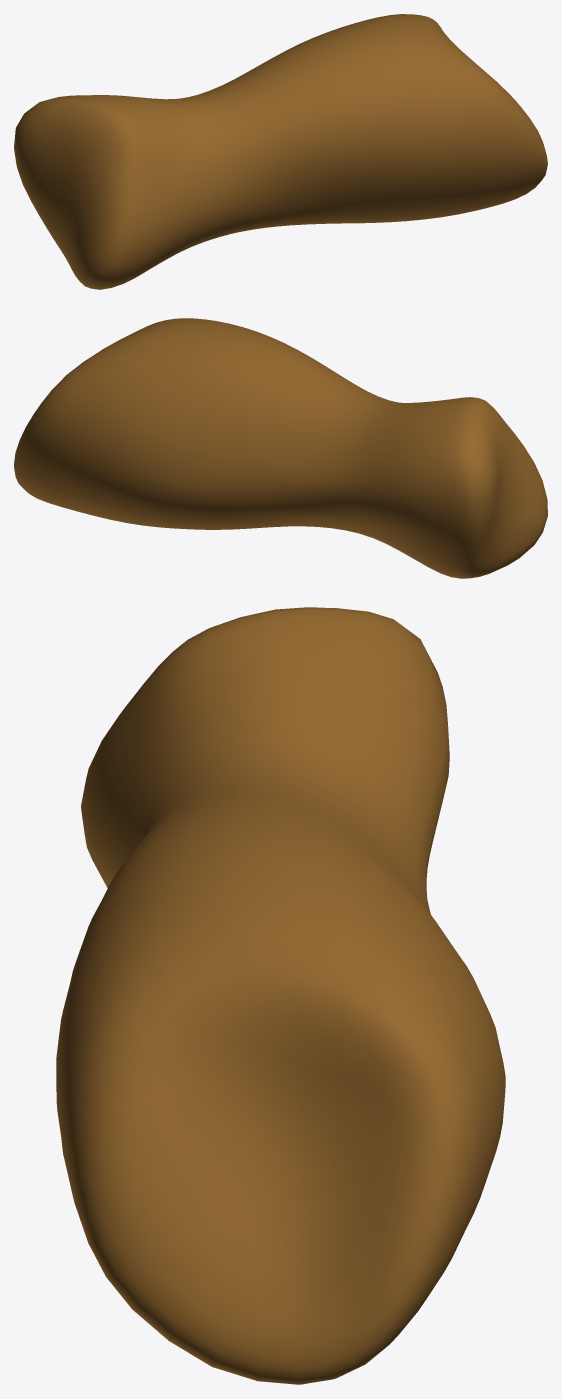
Rendered from arm.obj.
3 views of the same model, one above another, from view 1: azimuth 30°, elevation 25°; view 2: azimuth 150°, elevation 25°; view 3: azimuth 270°, elevation 25° (orthographic). The views are drawn at different scales.
Parts seen in each view (by area): view 1: arm; view 2: arm; view 3: arm.
Part boxes in pixels (x1=…): arm: x1=14, y1=14, x2=547, y2=289; arm: x1=14, y1=318, x2=547, y2=578; arm: x1=56, y1=607, x2=505, y2=1384.
Size of the model in its own units: 11.18 by 4.34 by 4.58.
